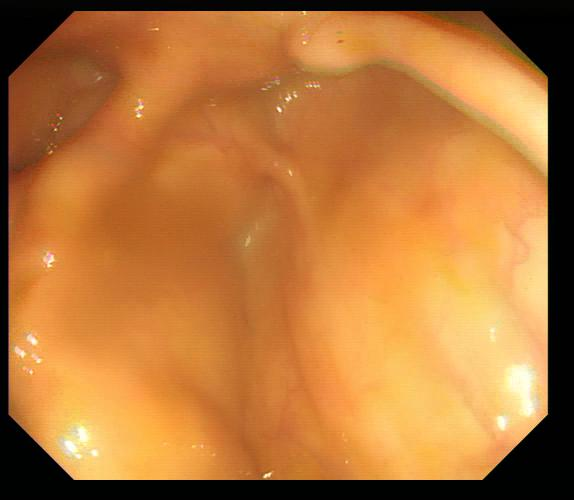polyp: (496, 341, 546, 441), (49, 400, 113, 476), (27, 150, 101, 213), (290, 27, 359, 71)
